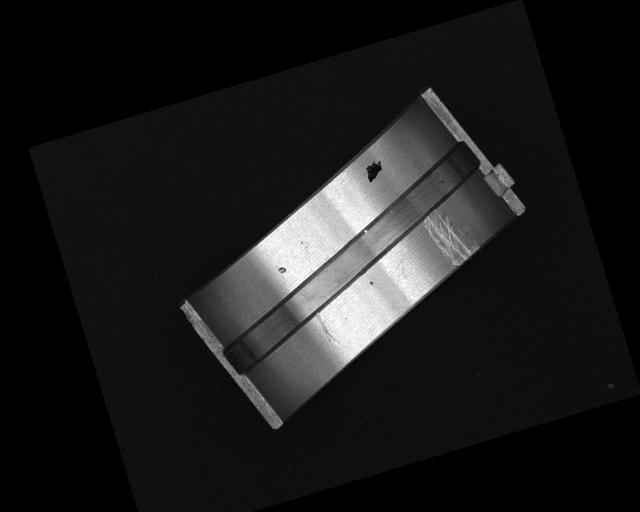blot: (362, 159, 387, 184)
bruise: (276, 265, 287, 275), (368, 278, 374, 285)
gap: (183, 139, 516, 379)
nick: (314, 308, 342, 351)
scratch: (422, 203, 482, 271)
